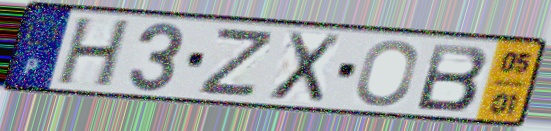3: (125, 19, 186, 94)
B: (413, 40, 491, 113)
H: (52, 15, 136, 90)
O: (352, 38, 420, 109)
X: (264, 29, 345, 105)
Z: (193, 27, 279, 100)
